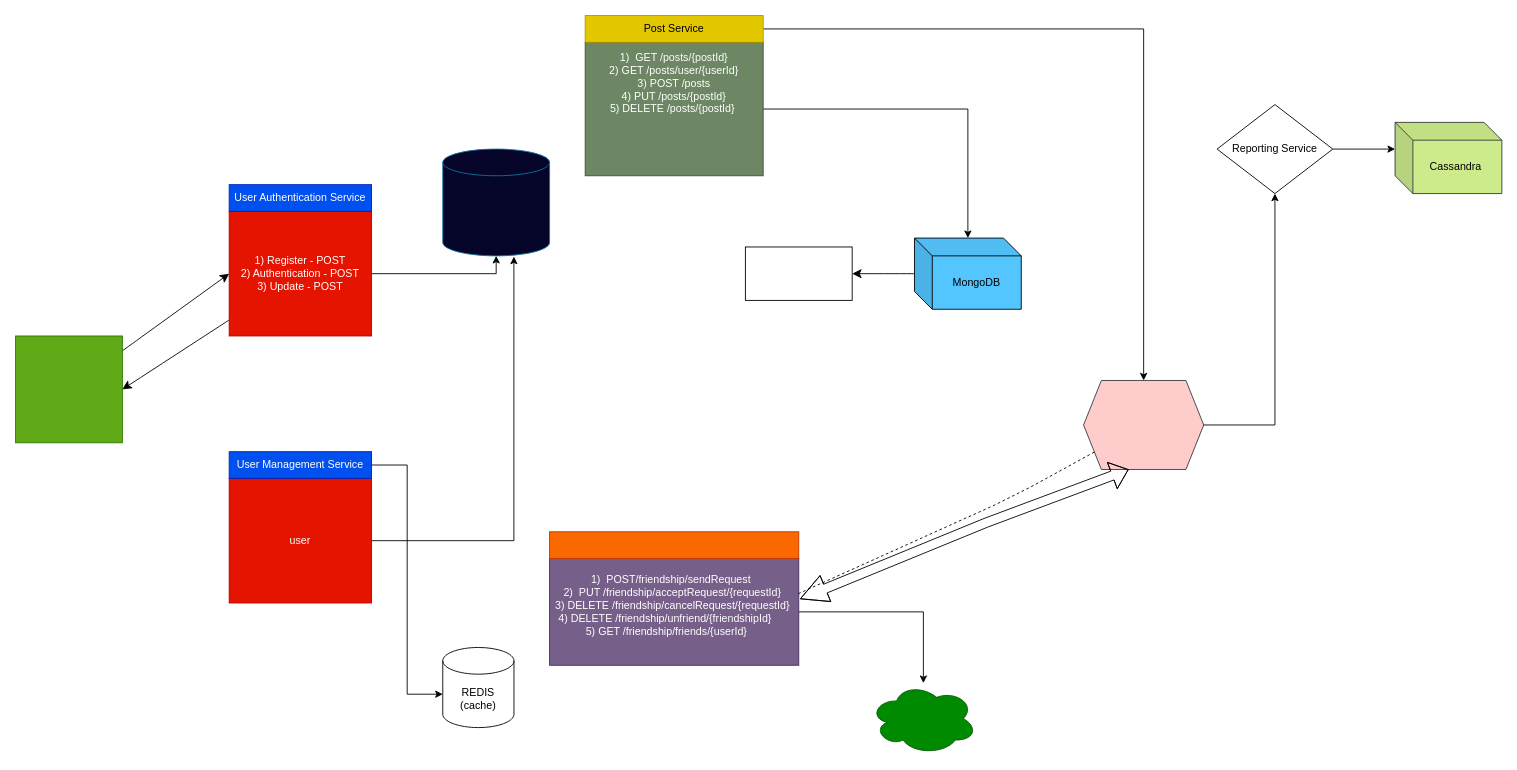
Image size: 1517x770. Some labels were removed from this diagram. The shapes that lost their labels are listed below. From the top down, each one's centre as x and y in pixels, then its label:
At pixel 496 202: "Postgresql (users)".
At pixel 798 273: "S3 file storage".
At pixel 68 389: "API Gateway".
At pixel 1143 424: "Apache Kafka".
At pixel 674 544: "Friendship Service".
At pixel 923 718: "GraphDB".
